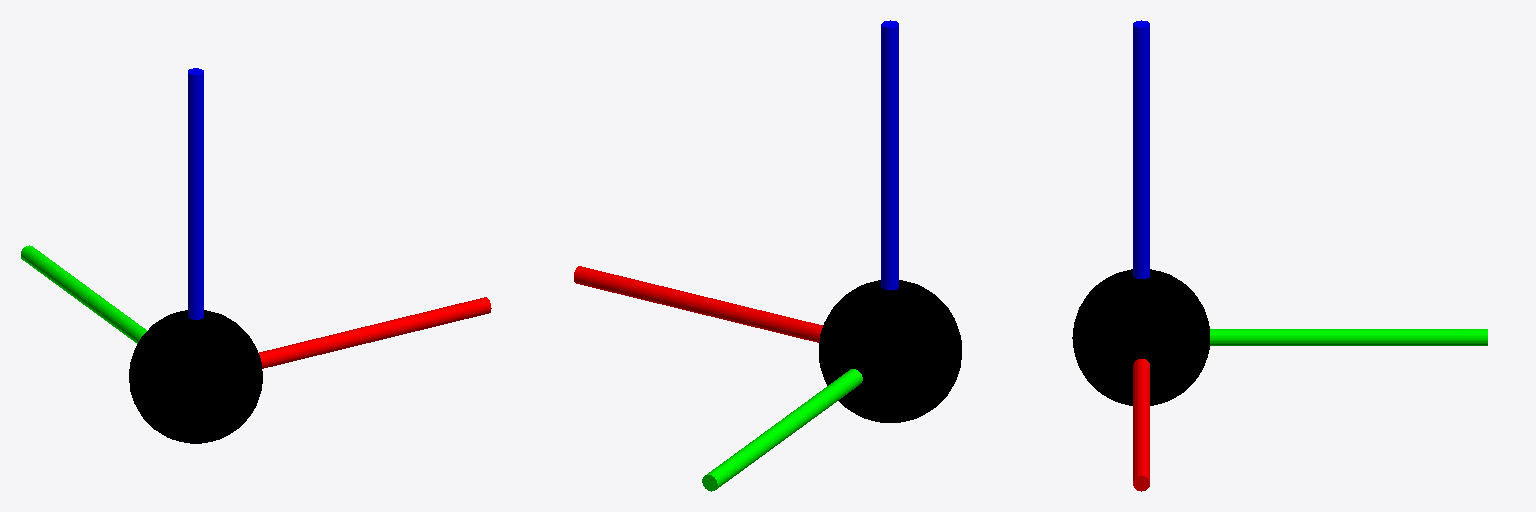
URDF robot description (frame):
<?xml version="1.0" ?>

<robot name="frame">

  <link name="origin">
    <visual>
      <origin rpy="0 0 0" xyz="0 0 0"/>
      <geometry>
        <sphere radius="0.2"/> -->
      </geometry>
      <material name="invisible">
        <color rgba="0 0 0 0"/>
      </material>
    </visual>
    <inertial>
      <mass value="0"/>
      <inertia ixx="0" ixy="0" ixz="0" iyy="0" iyz="0" izz="0"/>
    </inertial>
  </link>

  <link name="x-axis">
    <visual>
      <origin rpy="0 0 0" xyz="0 0 0.5"/>
      <geometry>
        <cylinder radius="0.025" length="1.0"/> -->
      </geometry>
      <material name="red">
        <color rgba="1 0 0 1"/>
      </material>
    </visual>
    <inertial>
      <mass value="0"/>
      <inertia ixx="0" ixy="0" ixz="0" iyy="0" iyz="0" izz="0"/>
    </inertial>
  </link>

  <link name="y-axis">
    <visual>
      <origin rpy="0 0 0" xyz="0 0 0.5"/>
      <geometry>
        <cylinder radius="0.025" length="1.0"/> -->
      </geometry>
      <material name="green">
        <color rgba="0 1 0 1"/>
      </material>
    </visual>
    <inertial>
      <mass value="0"/>
      <inertia ixx="0" ixy="0" ixz="0" iyy="0" iyz="0" izz="0"/>
    </inertial>
  </link>

  <link name="z-axis">
    <visual>
      <origin rpy="0 0 0" xyz="0 0 0.5"/>
      <geometry>
        <cylinder radius="0.025" length="1.0"/> -->
      </geometry>'
      <material name="blue">
        <color rgba="0 0 1 1"/>
      </material>'
    </visual>
    <inertial>
      <mass value="0"/>
      <inertia ixx="0" ixy="0" ixz="0" iyy="0" iyz="0" izz="0"/>
    </inertial>
  </link>

  <joint name="origin-to-x" type="fixed">
    <parent link="origin"/>
    <child link="x-axis"/>
    <origin xyz="0 0 0" rpy="0 1.57 0"/>
  </joint>

  <joint name="origin-to-y" type="fixed">
    <parent link="origin"/>
    <child link="y-axis"/>
    <origin xyz="0 0 0" rpy="-1.57 0 0"/>
  </joint>

  <joint name="origin-to-z" type="fixed">
    <parent link="origin"/>
    <child link="z-axis"/>
    <origin xyz="0 0 0" rpy="0 0 0"/>
  </joint>

</robot>

--- What the picture shows (computed from the rendered views, not written in the file) ---
Views: 3 orthographic renders of the robot side by side, from view 1: azimuth 30°, elevation 25°; view 2: azimuth 150°, elevation 25°; view 3: azimuth 270°, elevation 25°.
Robot: frame — 4 links, 3 joints (3 fixed); root link origin; default pose: all joints at 0.
Links seen in each view (by area): view 1: origin, z-axis, x-axis, y-axis; view 2: origin, z-axis, x-axis, y-axis; view 3: origin, y-axis, z-axis, x-axis.
Link boxes in pixels (x1,y1,x2,y2): origin: (129,310,262,443); z-axis: (188,68,203,319); x-axis: (259,297,491,368); y-axis: (21,245,146,343); origin: (819,280,961,422); z-axis: (881,20,898,290); x-axis: (574,266,822,342); y-axis: (702,369,862,491); origin: (1072,269,1209,405); y-axis: (1210,329,1487,345); z-axis: (1133,20,1149,278); x-axis: (1133,359,1149,491).
Bounding box of the posed robot: 1.2 × 1.2 × 1.2 m (x, y, z).
Geometry: primitives only (box / cylinder / sphere), no mesh files.